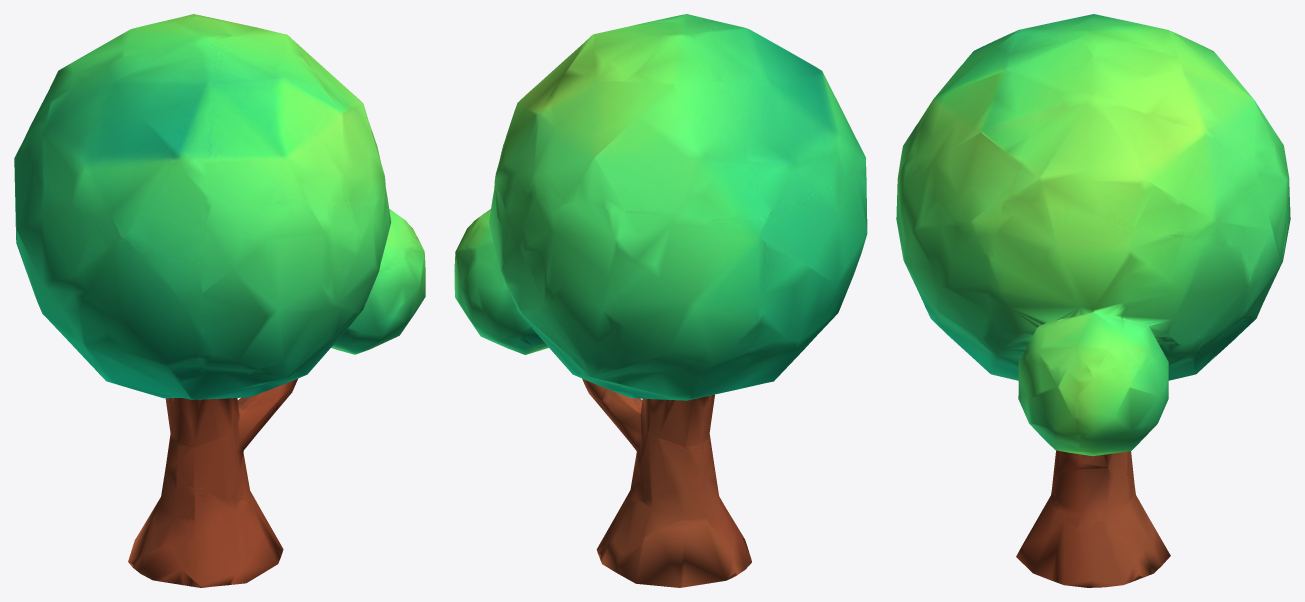
Rendered from arbre-feuillu.glb.
3 views of the same model, side by side, from view 1: azimuth 30°, elevation 25°; view 2: azimuth 150°, elevation 25°; view 3: azimuth 270°, elevation 25° (orthographic).
Parts seen in each view (by area): view 1: mesh_node; view 2: mesh_node; view 3: mesh_node.
Part boxes in pixels (x1,y1,x2,y2): mesh_node: (14, 14, 425, 587); mesh_node: (454, 14, 867, 587); mesh_node: (896, 14, 1290, 587).
Bounding box in the file's own units: 1.44 × 1.9 × 1.3.
Materials: 1 (1 with a texture image).
